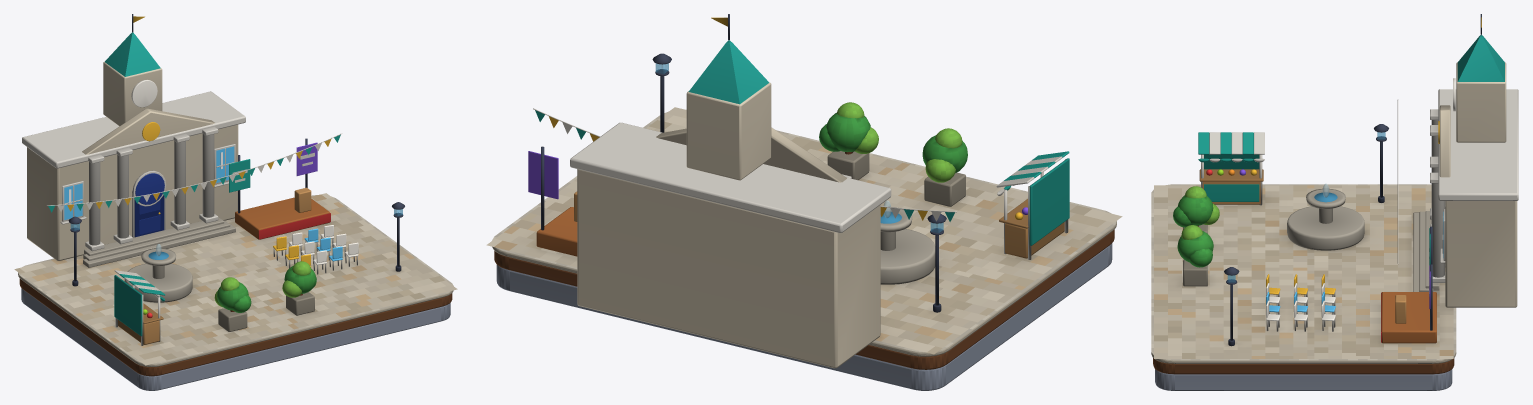
Rendered from square.glb.
3 renders of one model, left to right at view 1: azimuth 30°, elevation 25°; view 2: azimuth 150°, elevation 25°; view 3: azimuth 270°, elevation 25°, orthographic. The views are drawn at different scales.
Visible parts, largest first — view 1: square_Satin, square_Gloss, square_Matte; view 2: square_Satin, square_Gloss, square_Matte; view 3: square_Satin, square_Gloss, square_Matte.
Part boxes in pixels (x1=…): square_Satin: x1=14, y1=14, x2=457, y2=390; square_Gloss: x1=64, y1=32, x2=404, y2=317; square_Matte: x1=18, y1=195, x2=453, y2=366; square_Satin: x1=486, y1=14, x2=1122, y2=390; square_Gloss: x1=541, y1=40, x2=1027, y2=305; square_Matte: x1=492, y1=109, x2=1116, y2=356; square_Satin: x1=1153, y1=14, x2=1518, y2=390; square_Gloss: x1=1206, y1=34, x2=1504, y2=340; square_Matte: x1=1151, y1=184, x2=1456, y2=363.
Bounding box in the file's own units: 15 × 11.02 × 13.25.
